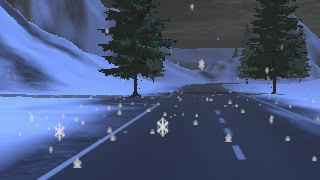Lane: (46, 82, 319, 178)
